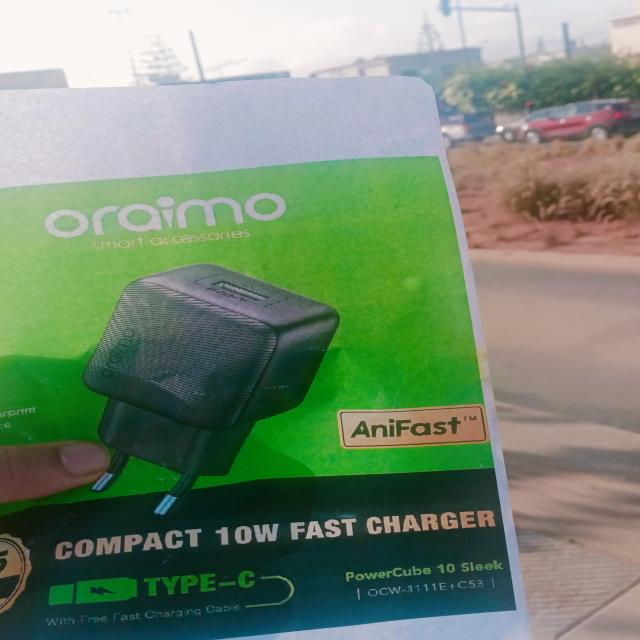PowerCube 10 Sleek OCW-1111ExL53: (337, 554, 507, 602)
